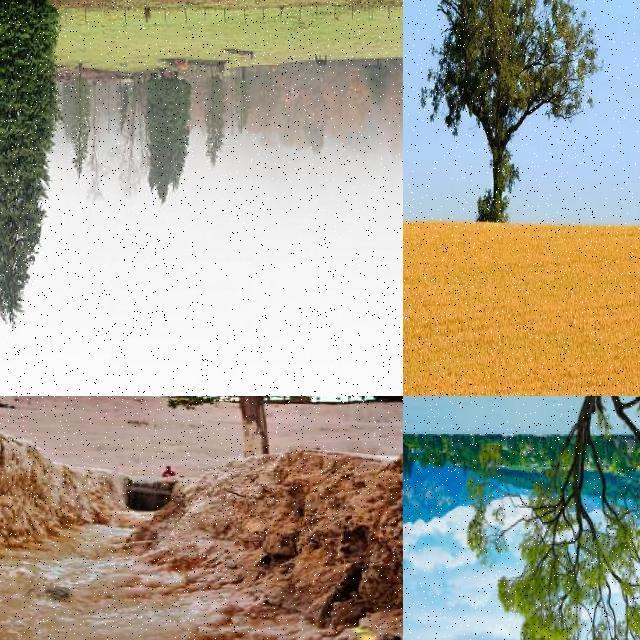tree: (421, 0, 605, 224), (474, 396, 640, 640), (0, 0, 60, 344), (250, 396, 368, 512), (148, 396, 248, 516), (142, 70, 194, 206), (0, 55, 24, 248), (119, 72, 145, 198), (62, 68, 90, 180), (200, 65, 227, 172), (1, 68, 16, 198), (230, 62, 250, 138)
